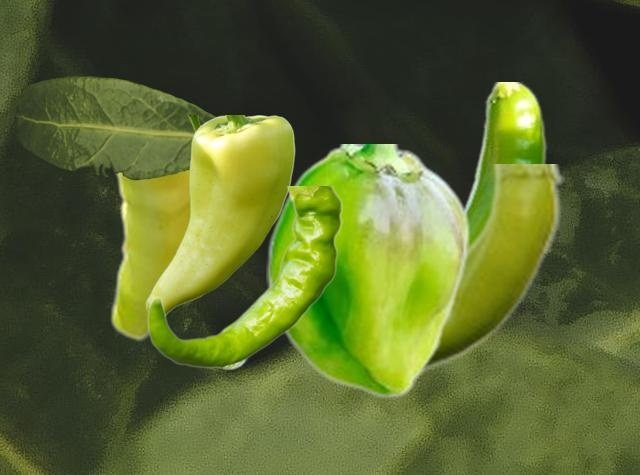green_chili: (266, 144, 470, 398), (147, 186, 342, 369), (421, 164, 563, 378), (145, 115, 294, 314), (109, 169, 189, 340), (463, 82, 546, 238)
